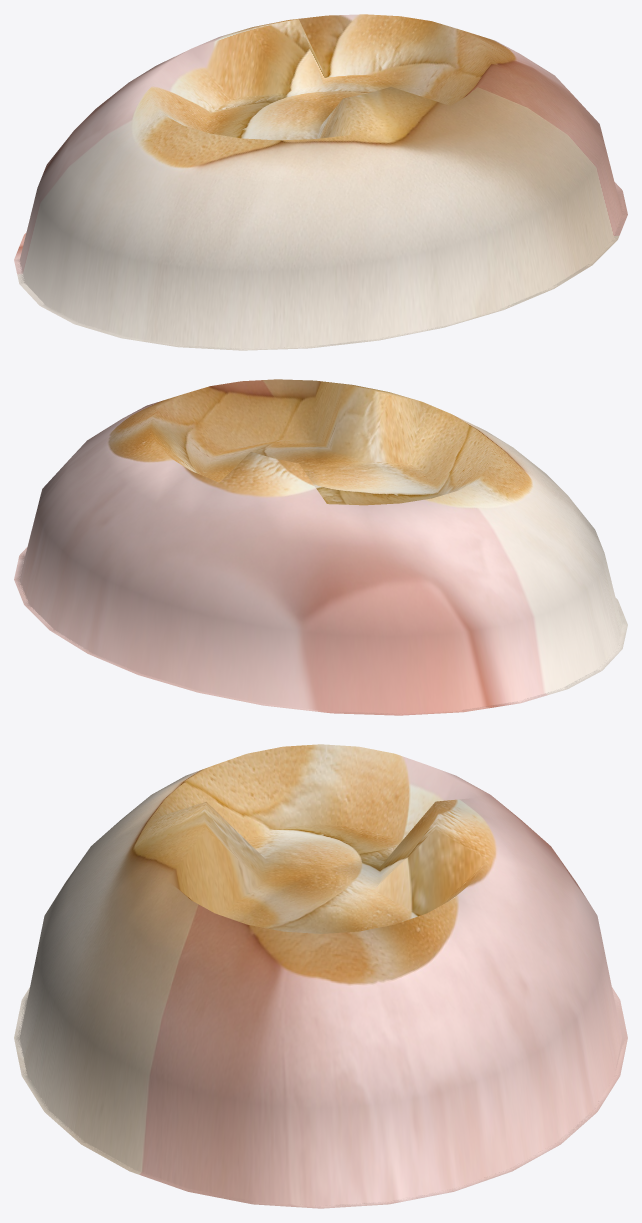
Rendered from prop_loaf_milk.glb.
3 views of the same model, one above another, from view 1: azimuth 30°, elevation 25°; view 2: azimuth 150°, elevation 25°; view 3: azimuth 270°, elevation 25° (orthographic). The views are drawn at different scales.
Parts seen in each view (by area): view 1: prop_loaf_milk; view 2: prop_loaf_milk; view 3: prop_loaf_milk.
Boxes of the visible parts, x1=… form: prop_loaf_milk: x1=14, y1=14, x2=627, y2=350; prop_loaf_milk: x1=14, y1=379, x2=627, y2=715; prop_loaf_milk: x1=14, y1=744, x2=627, y2=1208.
Bounding box in the file's own units: 0.18 × 0.0545 × 0.1368.
1 material, 1 textured.
